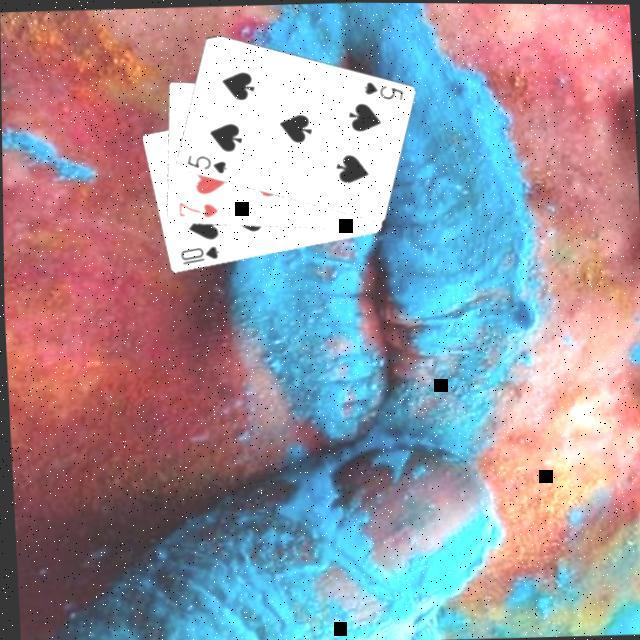10S: (176, 240, 224, 266)
5S: (360, 74, 408, 102), (184, 147, 231, 175)
7H: (175, 194, 222, 220)
